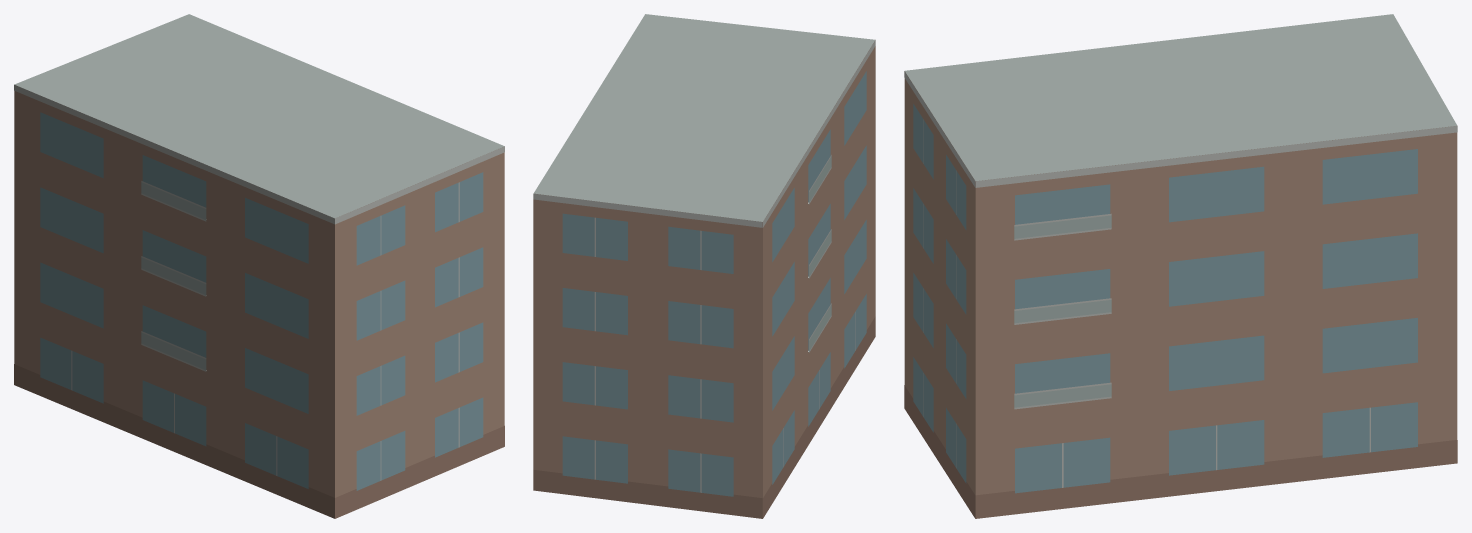
Rendered from survey-upis-32850742.glb.
3 renders of one model, left to right at view 1: azimuth 30°, elevation 25°; view 2: azimuth 150°, elevation 25°; view 3: azimuth 270°, elevation 25°, orthographic. The views are drawn at different scales.
Parts seen in each view (by area): view 1: survey-upis-32850742.tmp; view 2: survey-upis-32850742.tmp; view 3: survey-upis-32850742.tmp.
Part boxes in pixels (x1=…): survey-upis-32850742.tmp: x1=14, y1=14, x2=504, y2=518; survey-upis-32850742.tmp: x1=533, y1=14, x2=875, y2=518; survey-upis-32850742.tmp: x1=904, y1=14, x2=1457, y2=518.
Size of the model in its own units: 12.96 by 12.2 by 18.12.
